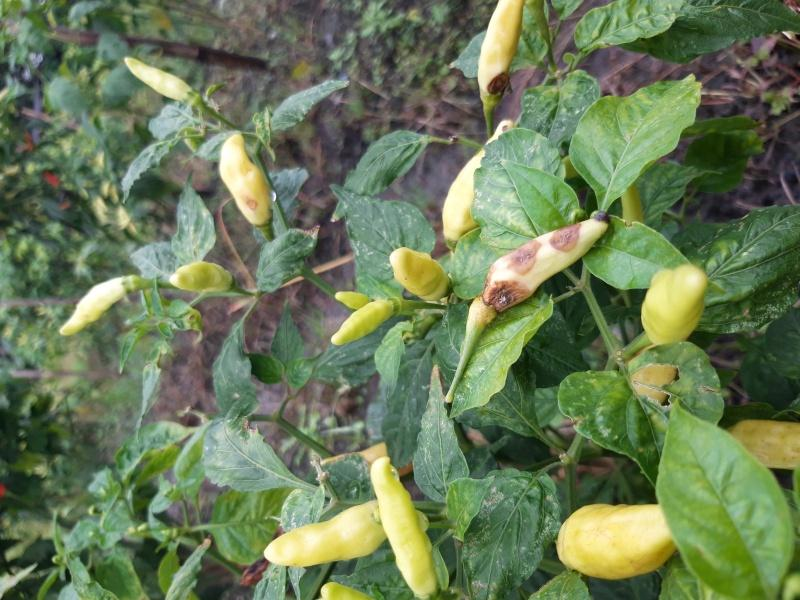antraknosa: (476, 212, 614, 318), (471, 1, 527, 97), (218, 133, 272, 225)
cabai_normal: (369, 454, 441, 600), (555, 502, 678, 579), (439, 118, 514, 238), (264, 500, 389, 567), (641, 264, 709, 344), (59, 274, 135, 335), (729, 419, 798, 471), (390, 247, 451, 301), (124, 56, 192, 101), (330, 299, 394, 346), (169, 260, 235, 291)
